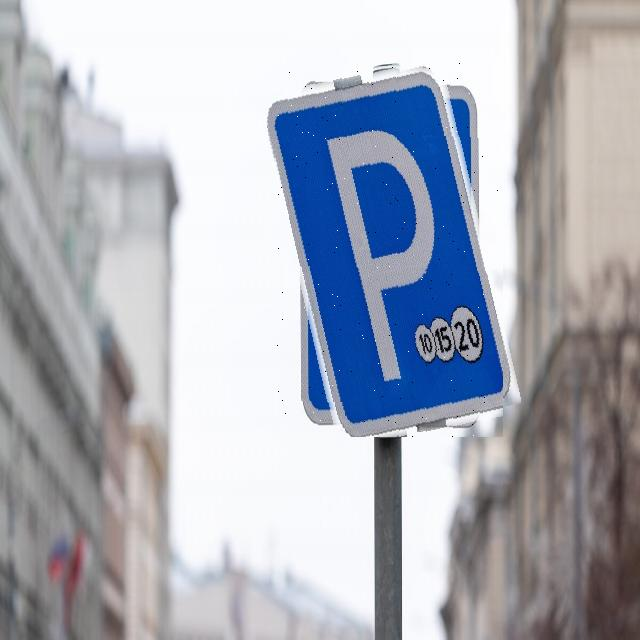parking: (274, 62, 503, 437)
